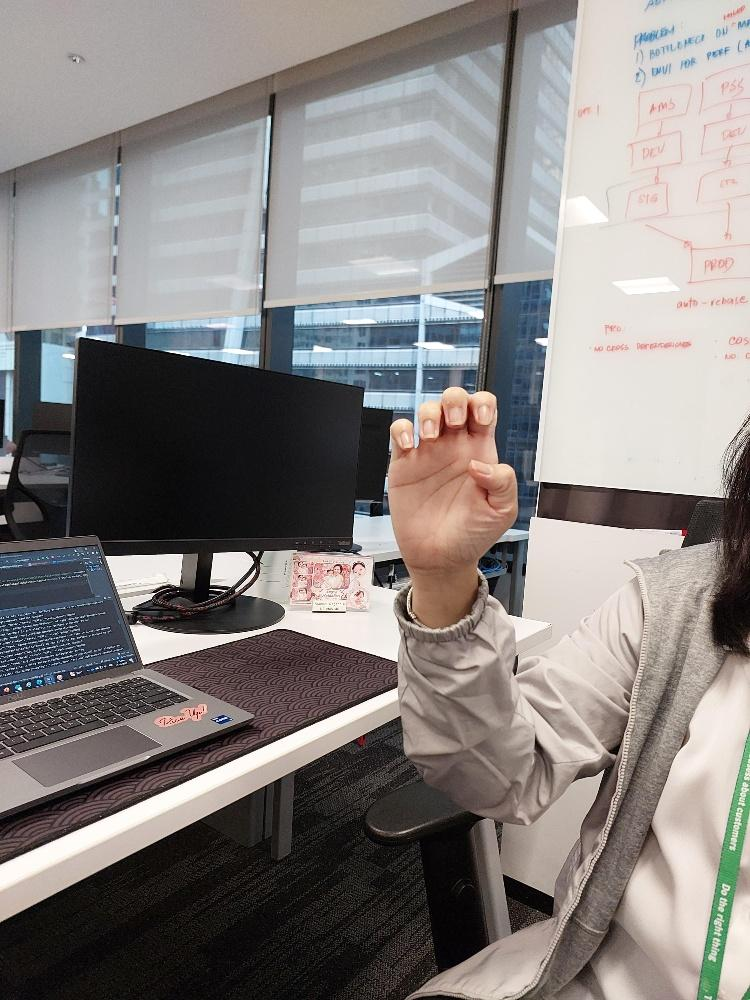e: (385, 385, 519, 561)
